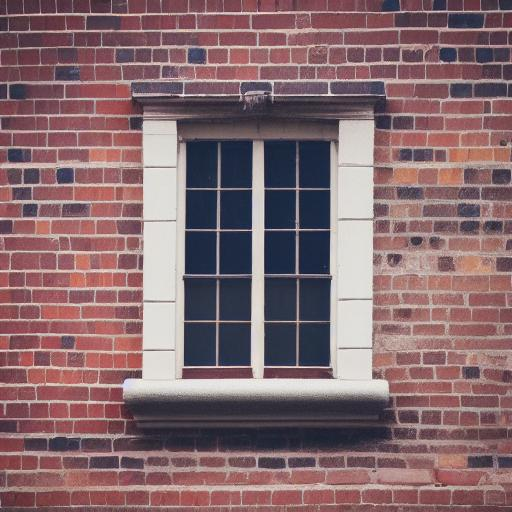Window: (123, 80, 392, 438)
